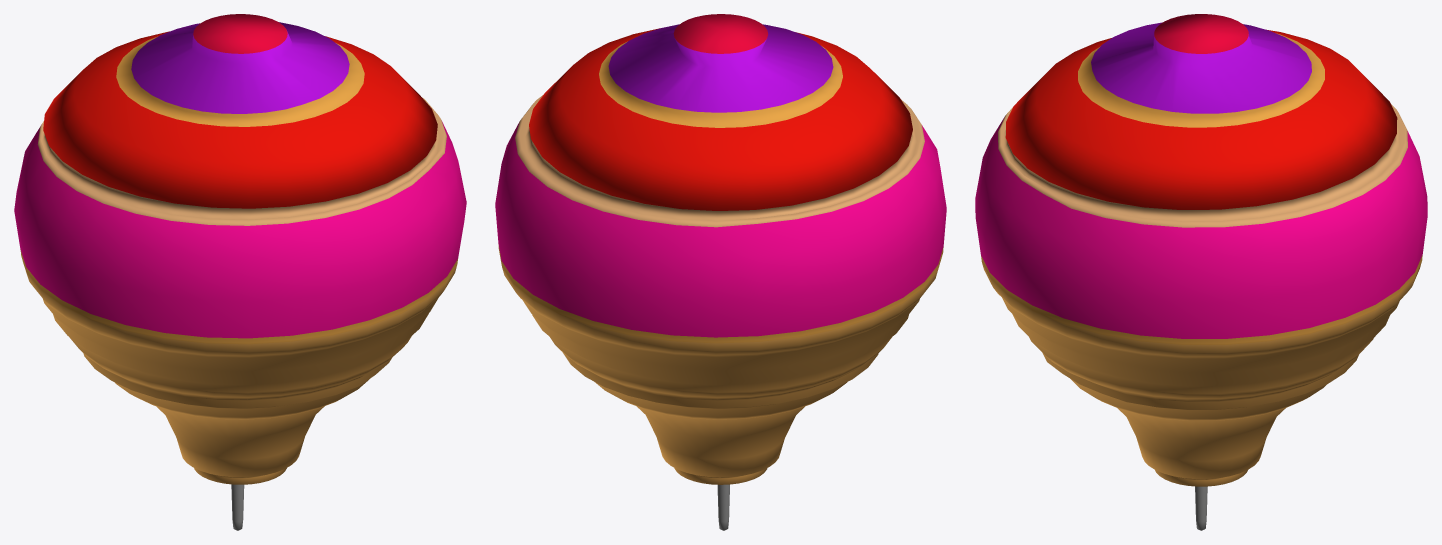
Rendered from Rope.glb.
3 views of the same model, side by side, from view 1: azimuth 30°, elevation 25°; view 2: azimuth 150°, elevation 25°; view 3: azimuth 270°, elevation 25° (orthographic).
Parts seen in each view (by area): view 1: Spin top; view 2: Spin top; view 3: Spin top.
Boxes of the visible parts, x1,y1,x2,y2 form: Spin top: [14, 14, 466, 530]; Spin top: [495, 14, 946, 530]; Spin top: [975, 14, 1427, 530].
Size of the model in its own units: 3.52 by 4.31 by 3.52.
